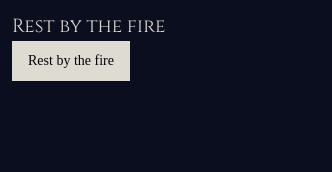
Scenario: ignores a second tap while the rest request is in flight
Click the button.
click(71, 60)  # box [12, 40, 130, 80]
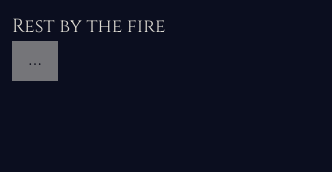
Click the button.
click(35, 60)  # box [12, 40, 58, 80]
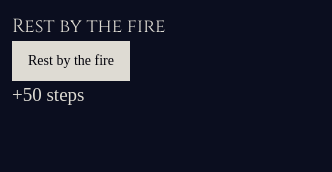
Check: the message "+50 steps" is shown, box [12, 84, 84, 104]
